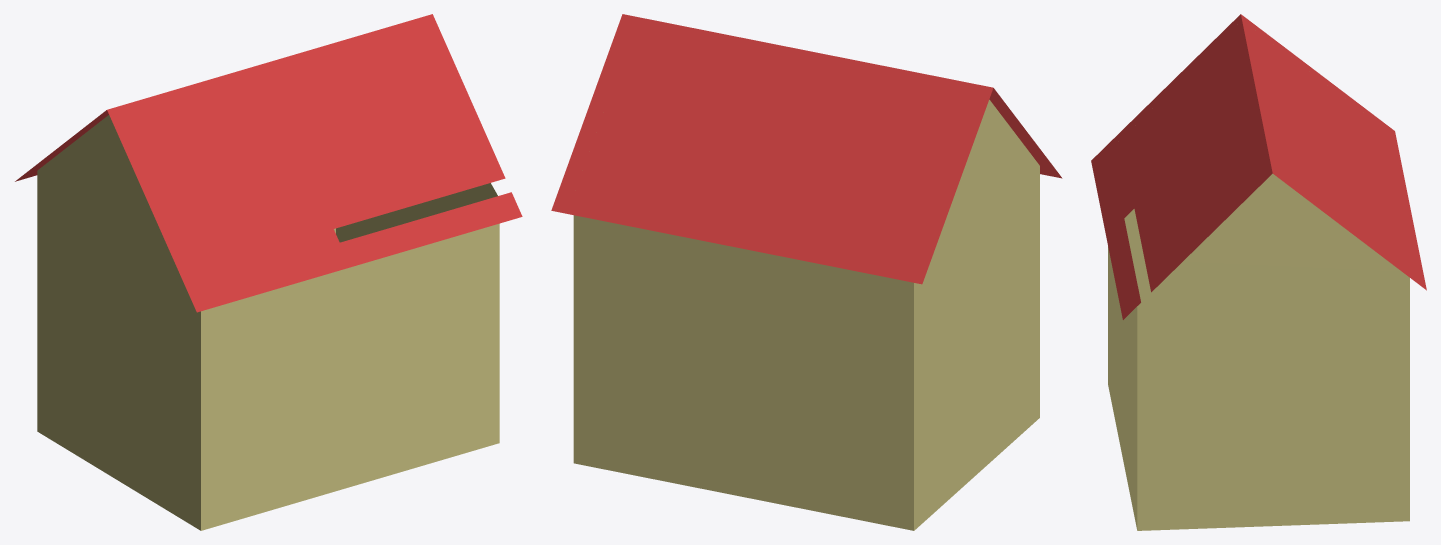
3 renders of one model, left to right at view 1: azimuth 30°, elevation 25°; view 2: azimuth 150°, elevation 25°; view 3: azimuth 270°, elevation 25°, orthographic. The views are drawn at different scales.
Size of the model in its own units: 12.86 by 10.71 by 12.64.
